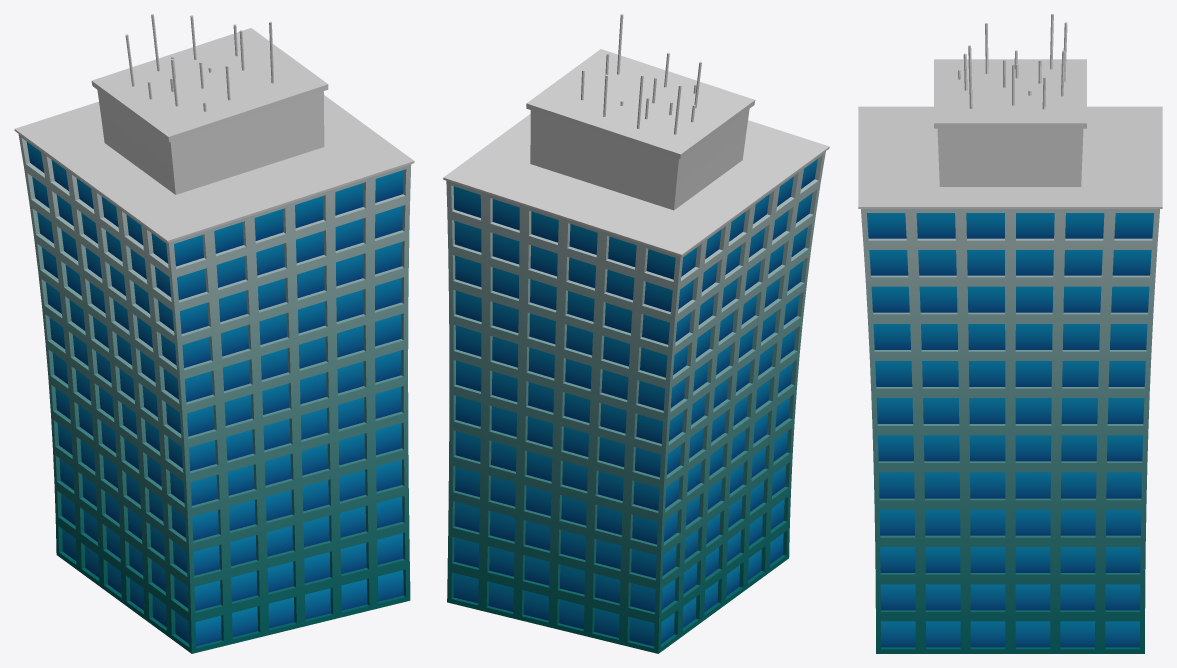
File: SM_Enviro_Building_02.fbx
The picture shows the model from 3 angles, left to right: view 1: azimuth 30°, elevation 25°; view 2: azimuth 150°, elevation 25°; view 3: azimuth 270°, elevation 25°; orthographic projection. The views are drawn at different scales.
Parts seen in each view (by area): view 1: null1; view 2: null1; view 3: null1.
Boxes of the visible parts, x1,y1,x2,y2 form: null1: [14, 14, 414, 653]; null1: [443, 14, 829, 653]; null1: [858, 14, 1162, 653].
Size of the model in its own units: 802 by 1723 by 844.
